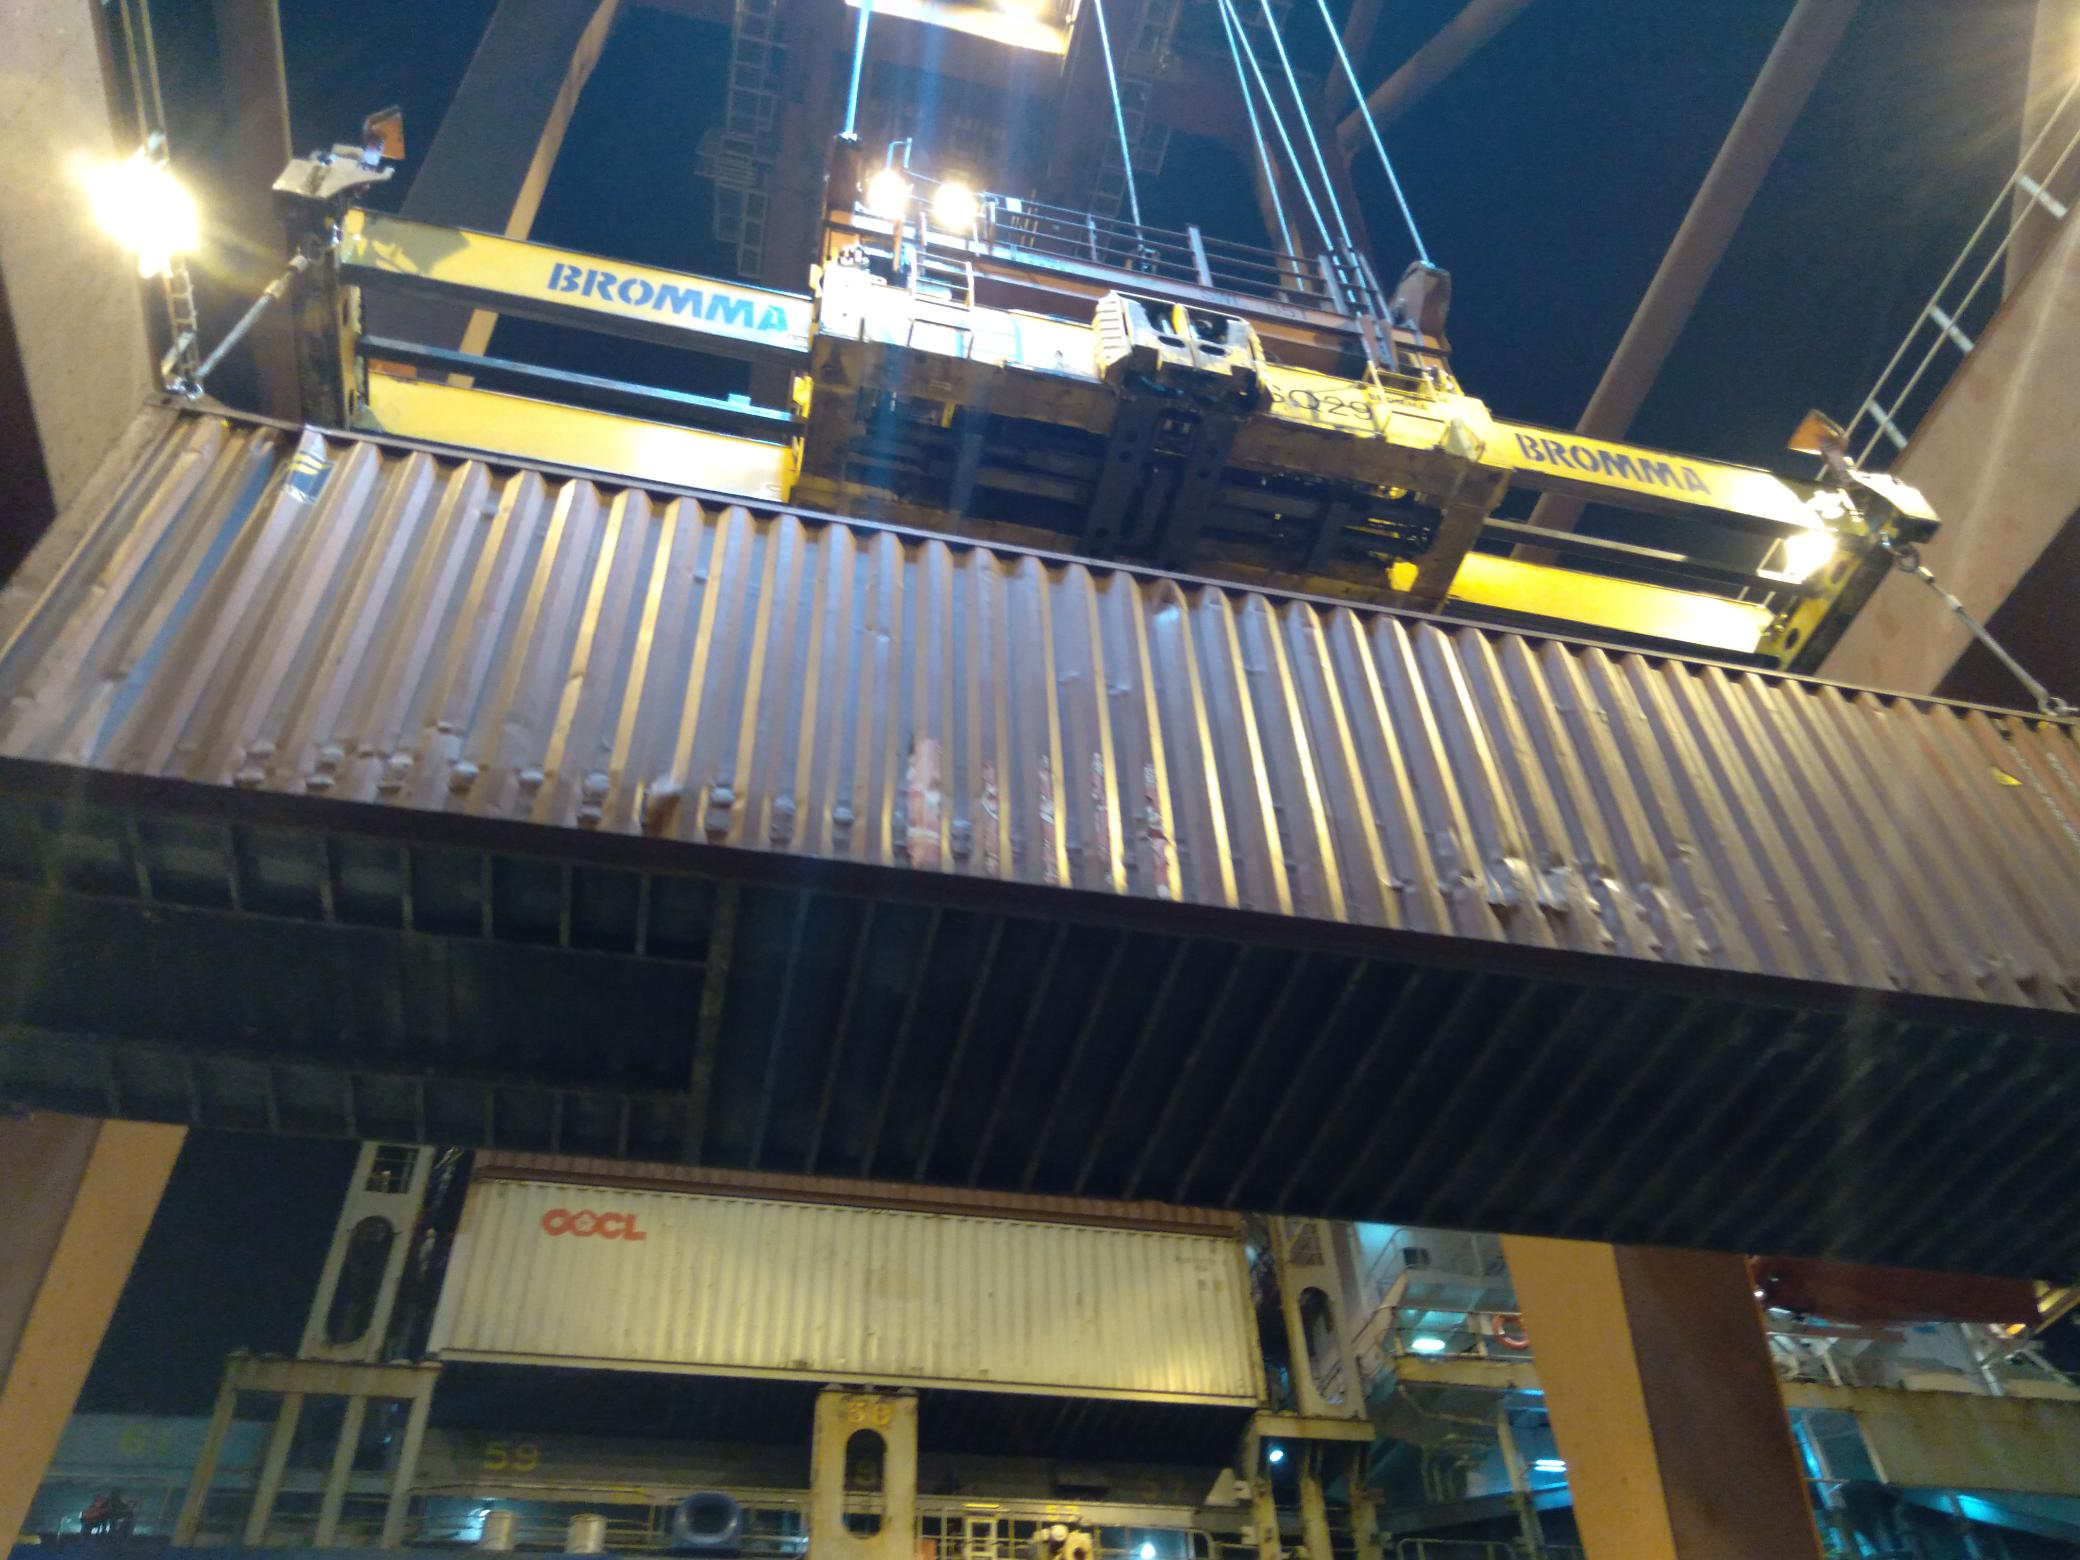moderate: (242, 732, 865, 836), (1394, 828, 1730, 947), (894, 757, 1179, 875), (1875, 932, 2072, 998)
